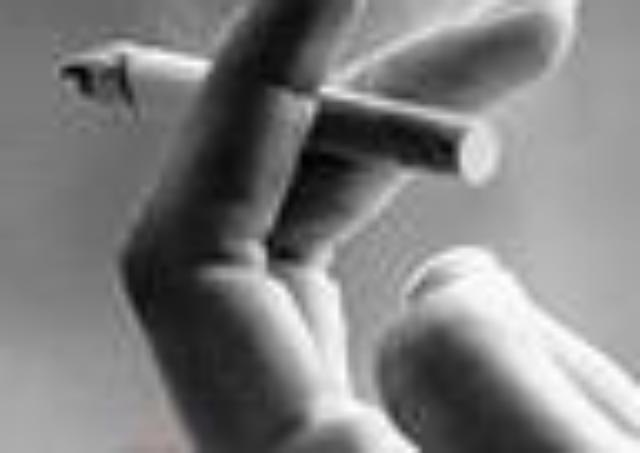Cigarette: (52, 40, 498, 186)
